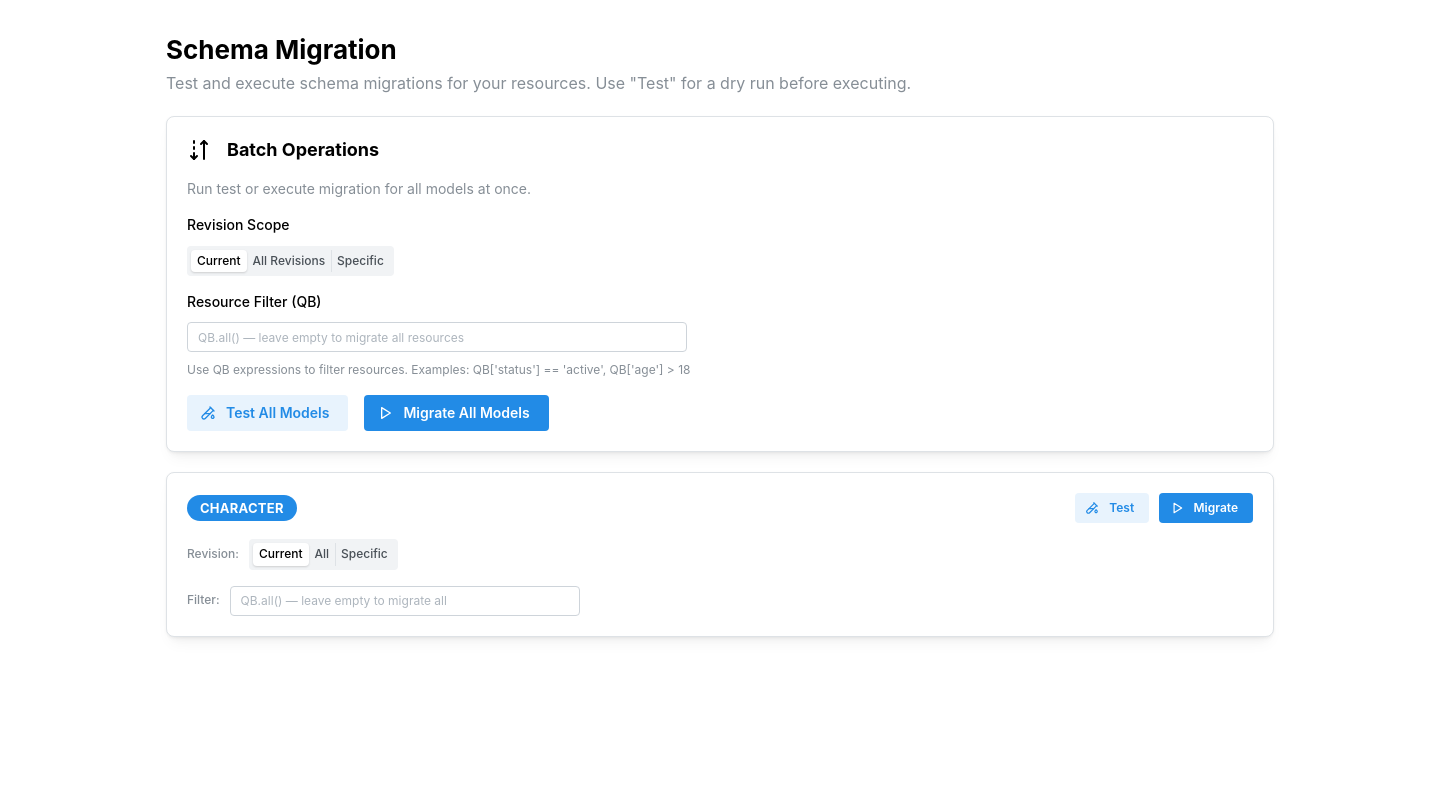
Scenario: MigrationStatus › shows per-model success alert on execute with 0 failed
Click the button "Migrate" at (1206, 508), box [1159,493,1253,523]
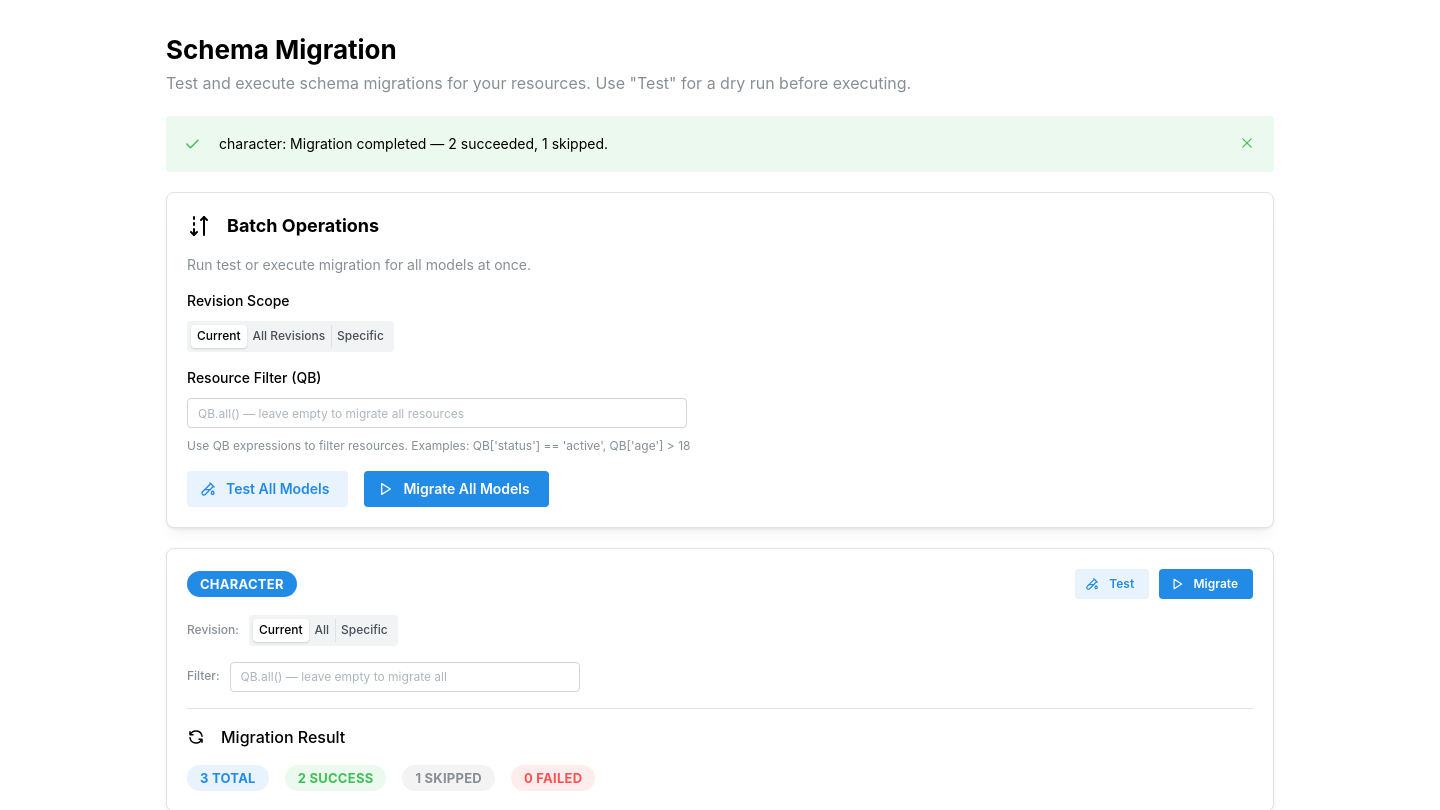
expect the text "character: Migration completed — 2 succeeded, 1 skipped." is shown: met, box [219,135,608,152]
